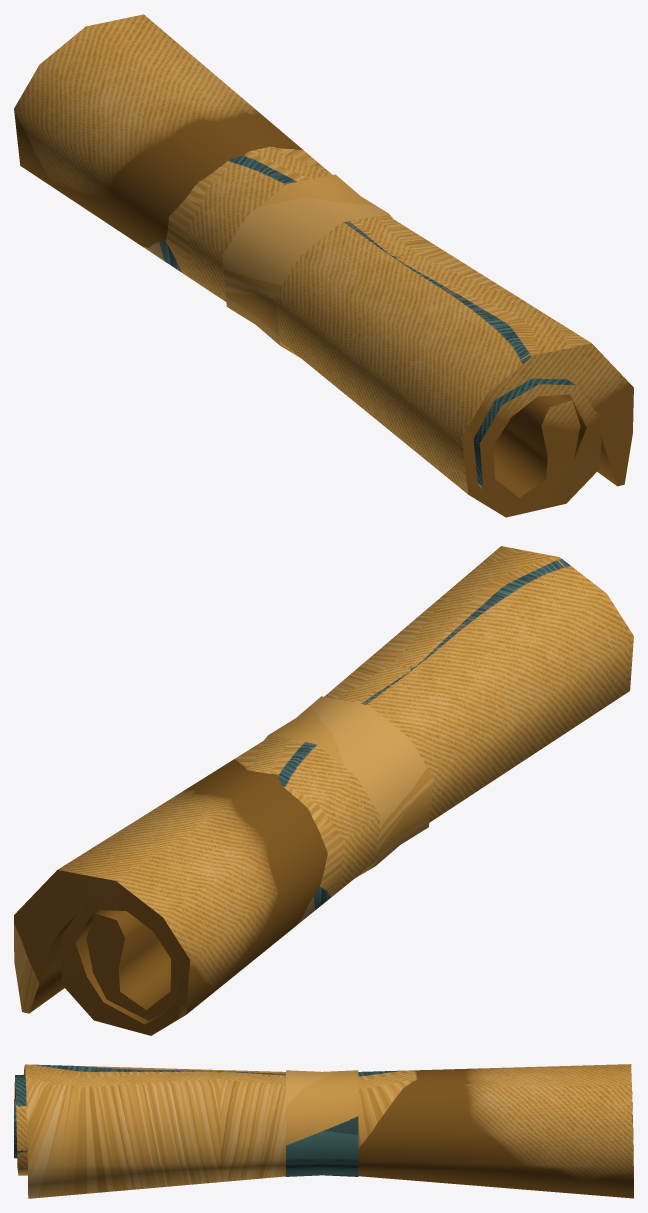
The model's file is model_propNewspaper.fbx.
3 renders of one model, top to bottom at view 1: azimuth 30°, elevation 25°; view 2: azimuth 150°, elevation 25°; view 3: azimuth 270°, elevation 25°, orthographic. The views are drawn at different scales.
Parts seen in each view (by area): view 1: mesh_propNewspaper; view 2: mesh_propNewspaper; view 3: mesh_propNewspaper.
Part boxes in pixels (<box>): mesh_propNewspaper: <box>14,14,633,517</box>; mesh_propNewspaper: <box>14,546,633,1035</box>; mesh_propNewspaper: <box>14,1064,633,1198</box>.
Bounding box in the file's own units: 8.31 × 6.98 × 37.65.
